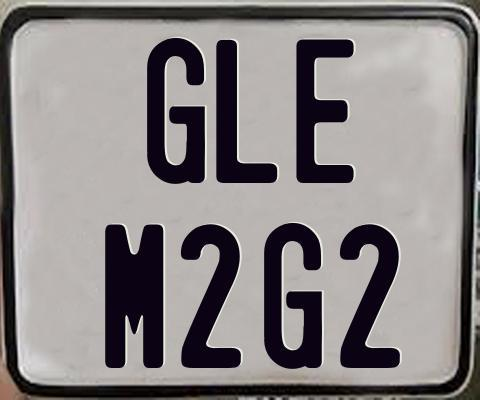2: (337, 223, 402, 367), (181, 224, 241, 369)
E: (293, 38, 355, 185)
G: (146, 35, 210, 183), (262, 220, 320, 367)
L: (215, 37, 280, 185)
M: (102, 221, 161, 367)
